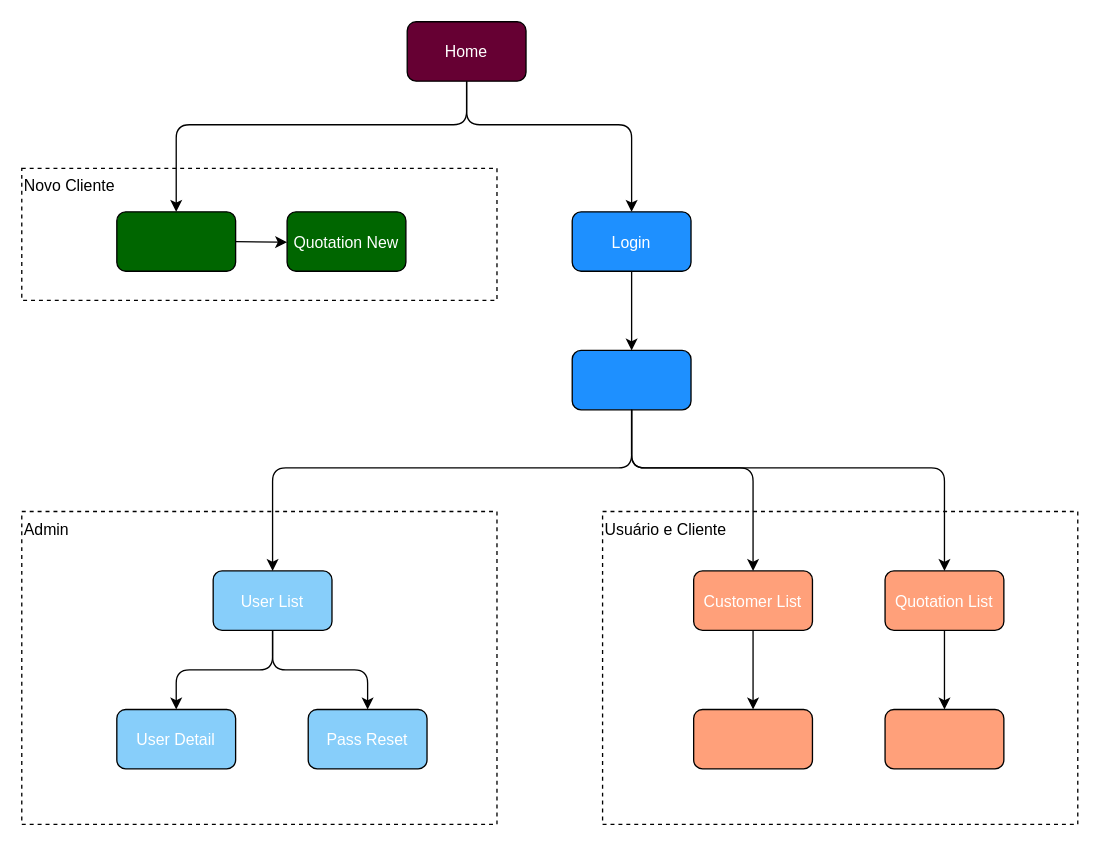
This 1100x846 diagram has some shape labels left out. Each missing label, with the centre of its shape:
"Customer Detail" belongs at (x=752, y=738).
"Customer New" belongs at (x=176, y=241).
"Dashboard" belongs at (x=631, y=379).
"Quotation Detail" belongs at (x=944, y=738).
